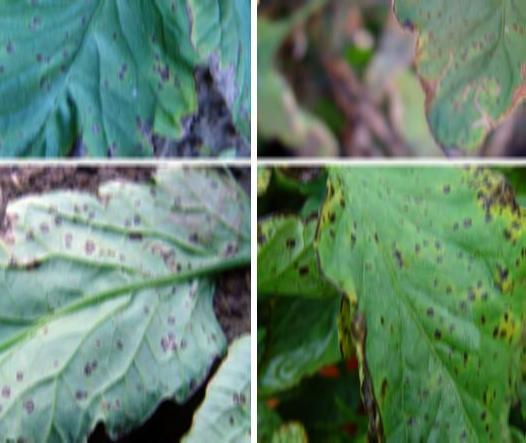Tomato leaf bacterial spot: (297, 163, 526, 443), (0, 171, 234, 443), (0, 0, 192, 154), (372, 0, 526, 157)
